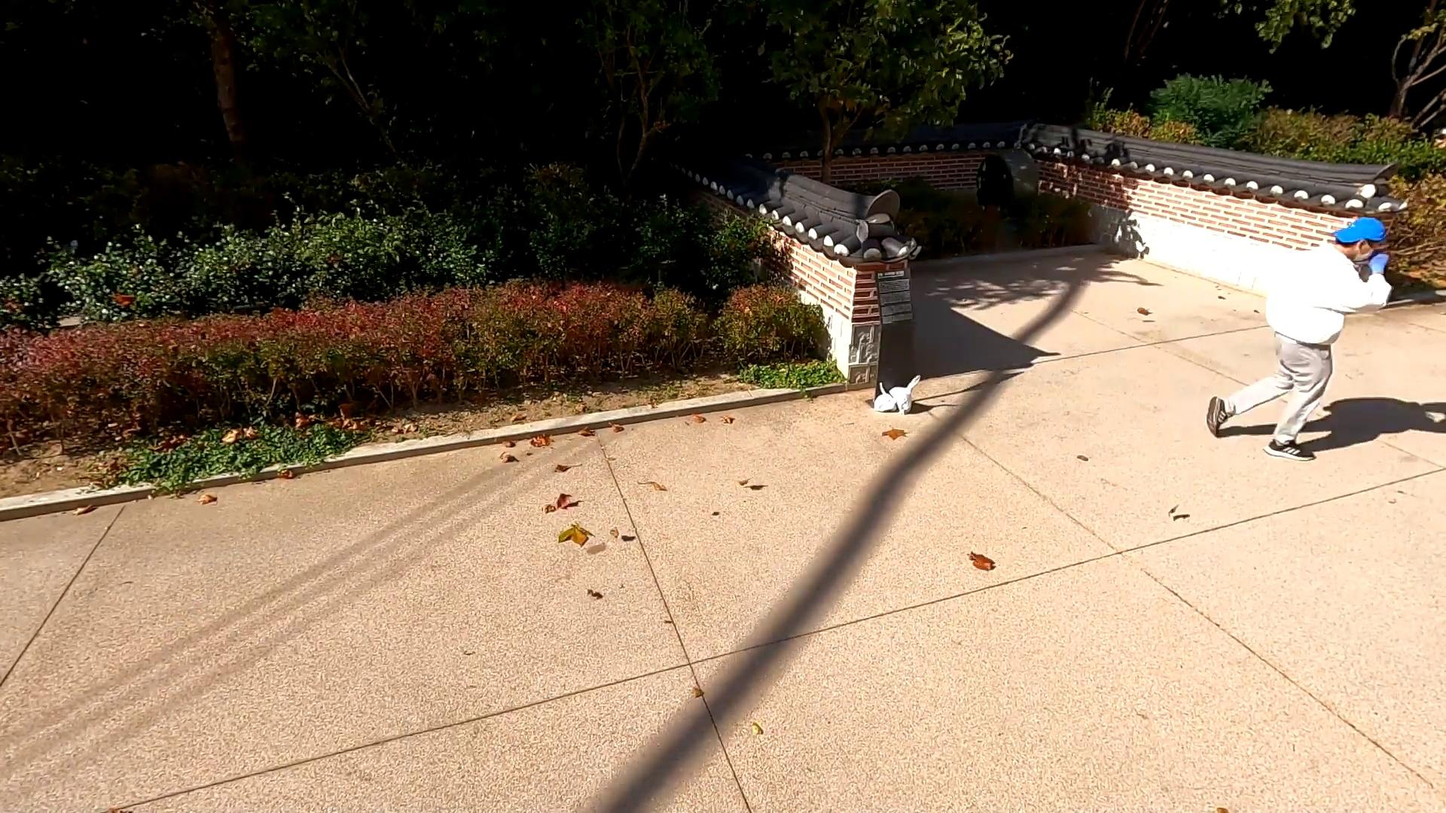person: (1204, 216, 1396, 462)
trash: (889, 374, 923, 416), (875, 381, 900, 413)
